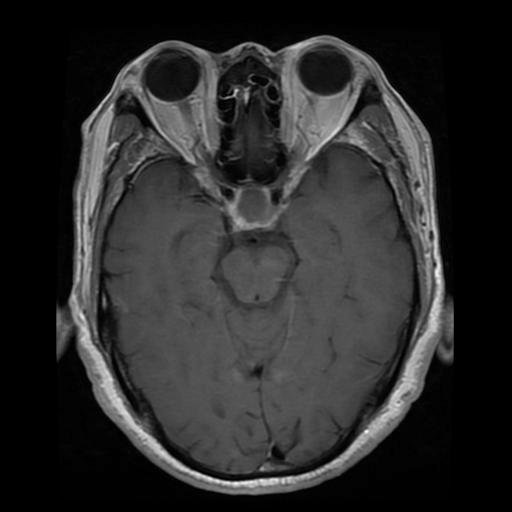Tumour-Pituitary: (220, 181, 292, 238)
